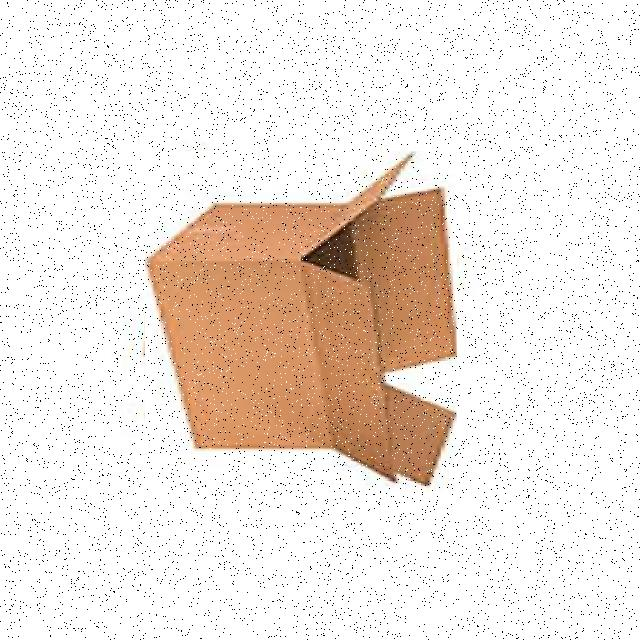defect: (145, 151, 457, 492)
